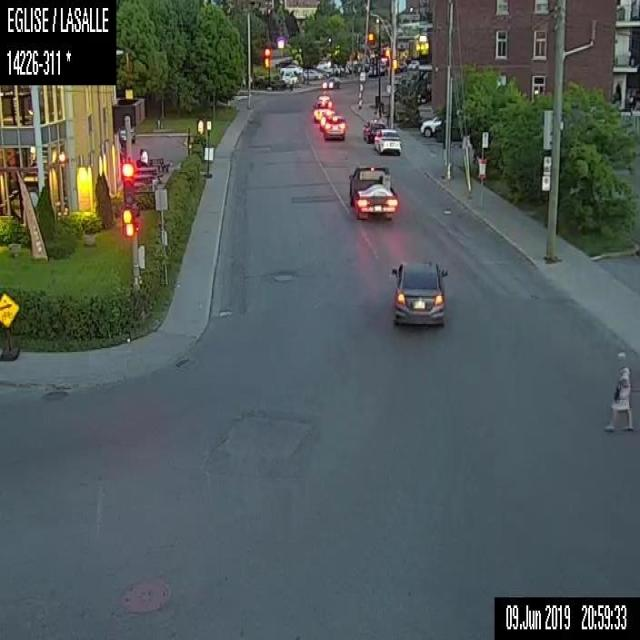pedestrian: (602, 348, 634, 435), (136, 148, 148, 165)
vehicle: (389, 253, 448, 328), (346, 162, 399, 222), (374, 127, 400, 156), (324, 115, 346, 143), (362, 117, 384, 142), (420, 114, 440, 137), (313, 101, 334, 121), (320, 75, 339, 89), (314, 94, 331, 108), (304, 66, 322, 79)
